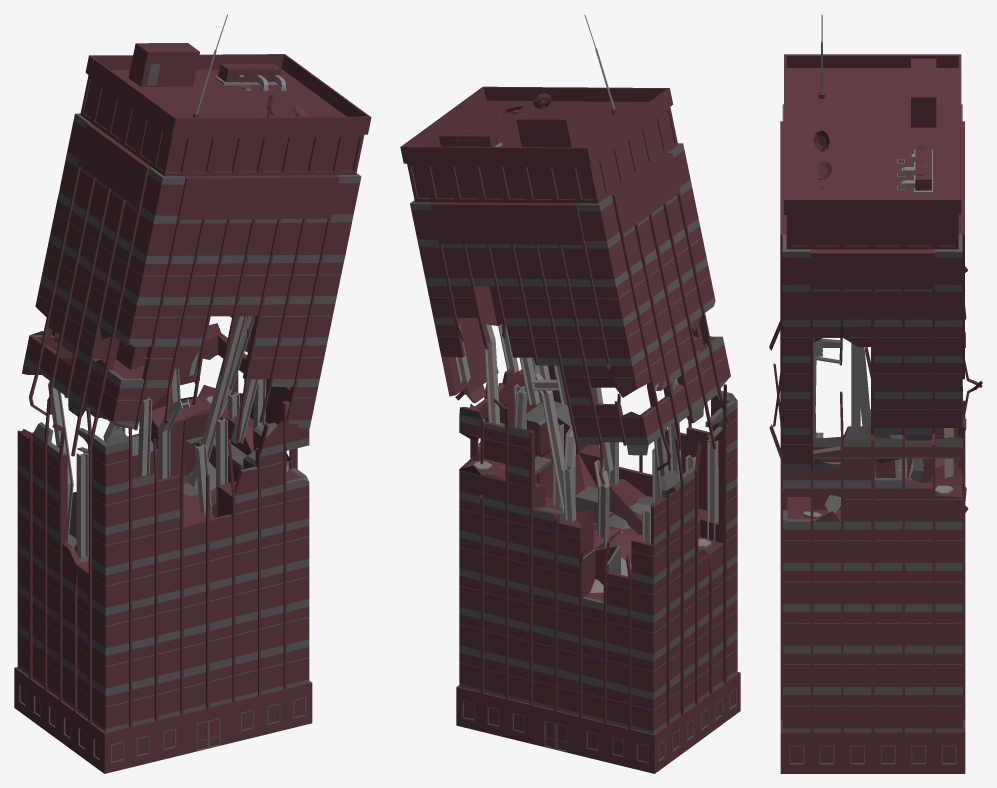
The model's file is building-office-tall-apocalypse-b.fbx.
The picture shows the model from 3 angles, left to right: view 1: azimuth 30°, elevation 25°; view 2: azimuth 150°, elevation 25°; view 3: azimuth 270°, elevation 25°; orthographic projection. The views are drawn at different scales.
Parts seen in each view (by area): view 1: building-office-tall-apocalypse-b; view 2: building-office-tall-apocalypse-b; view 3: building-office-tall-apocalypse-b.
Part boxes in pixels (x1=…): building-office-tall-apocalypse-b: x1=14, y1=14, x2=371, y2=773; building-office-tall-apocalypse-b: x1=400, y1=14, x2=740, y2=773; building-office-tall-apocalypse-b: x1=769, y1=14, x2=982, y2=773.
Bounding box in the file's own units: 26.03 × 63.46 × 16.87.
